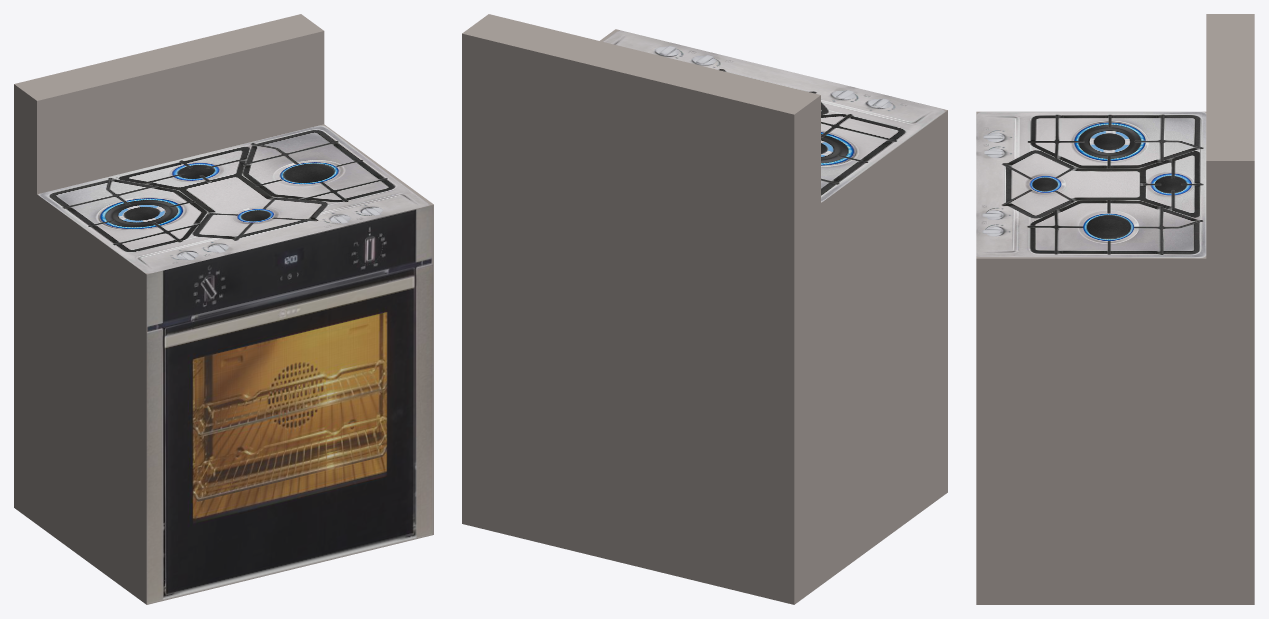
Rendered from oven.fbx.
3 views of the same model, side by side, from view 1: azimuth 30°, elevation 25°; view 2: azimuth 150°, elevation 25°; view 3: azimuth 270°, elevation 25° (orthographic). The views are drawn at different scales.
Visible parts, largest first — view 1: oven; view 2: oven; view 3: oven.
Part boxes in pixels (<box>): oven: <box>14,14,433,604</box>; oven: <box>462,14,947,604</box>; oven: <box>976,14,1254,604</box>.
Bounding box in the file's own units: 16.41 × 23.14 × 13.15.
